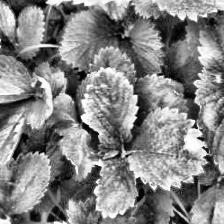Powdery Mildew Leaf: (127, 105, 210, 191), (23, 76, 54, 130)
